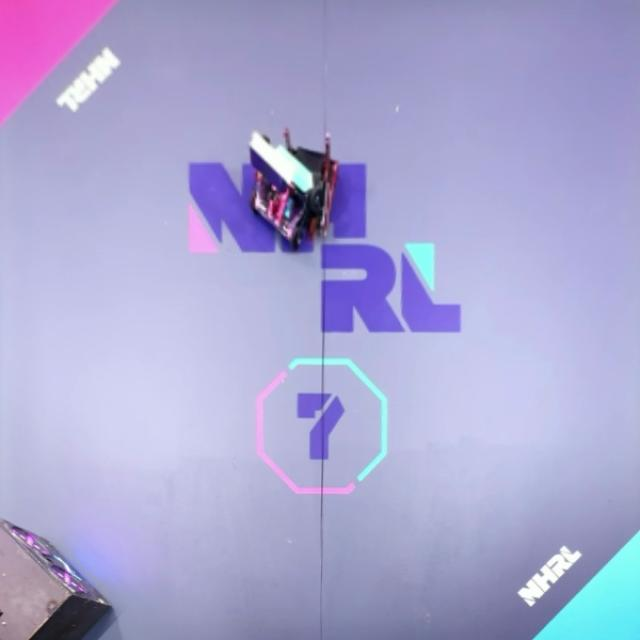housebot: (0, 519, 115, 640)
robot: (247, 130, 330, 252), (270, 130, 342, 240)
